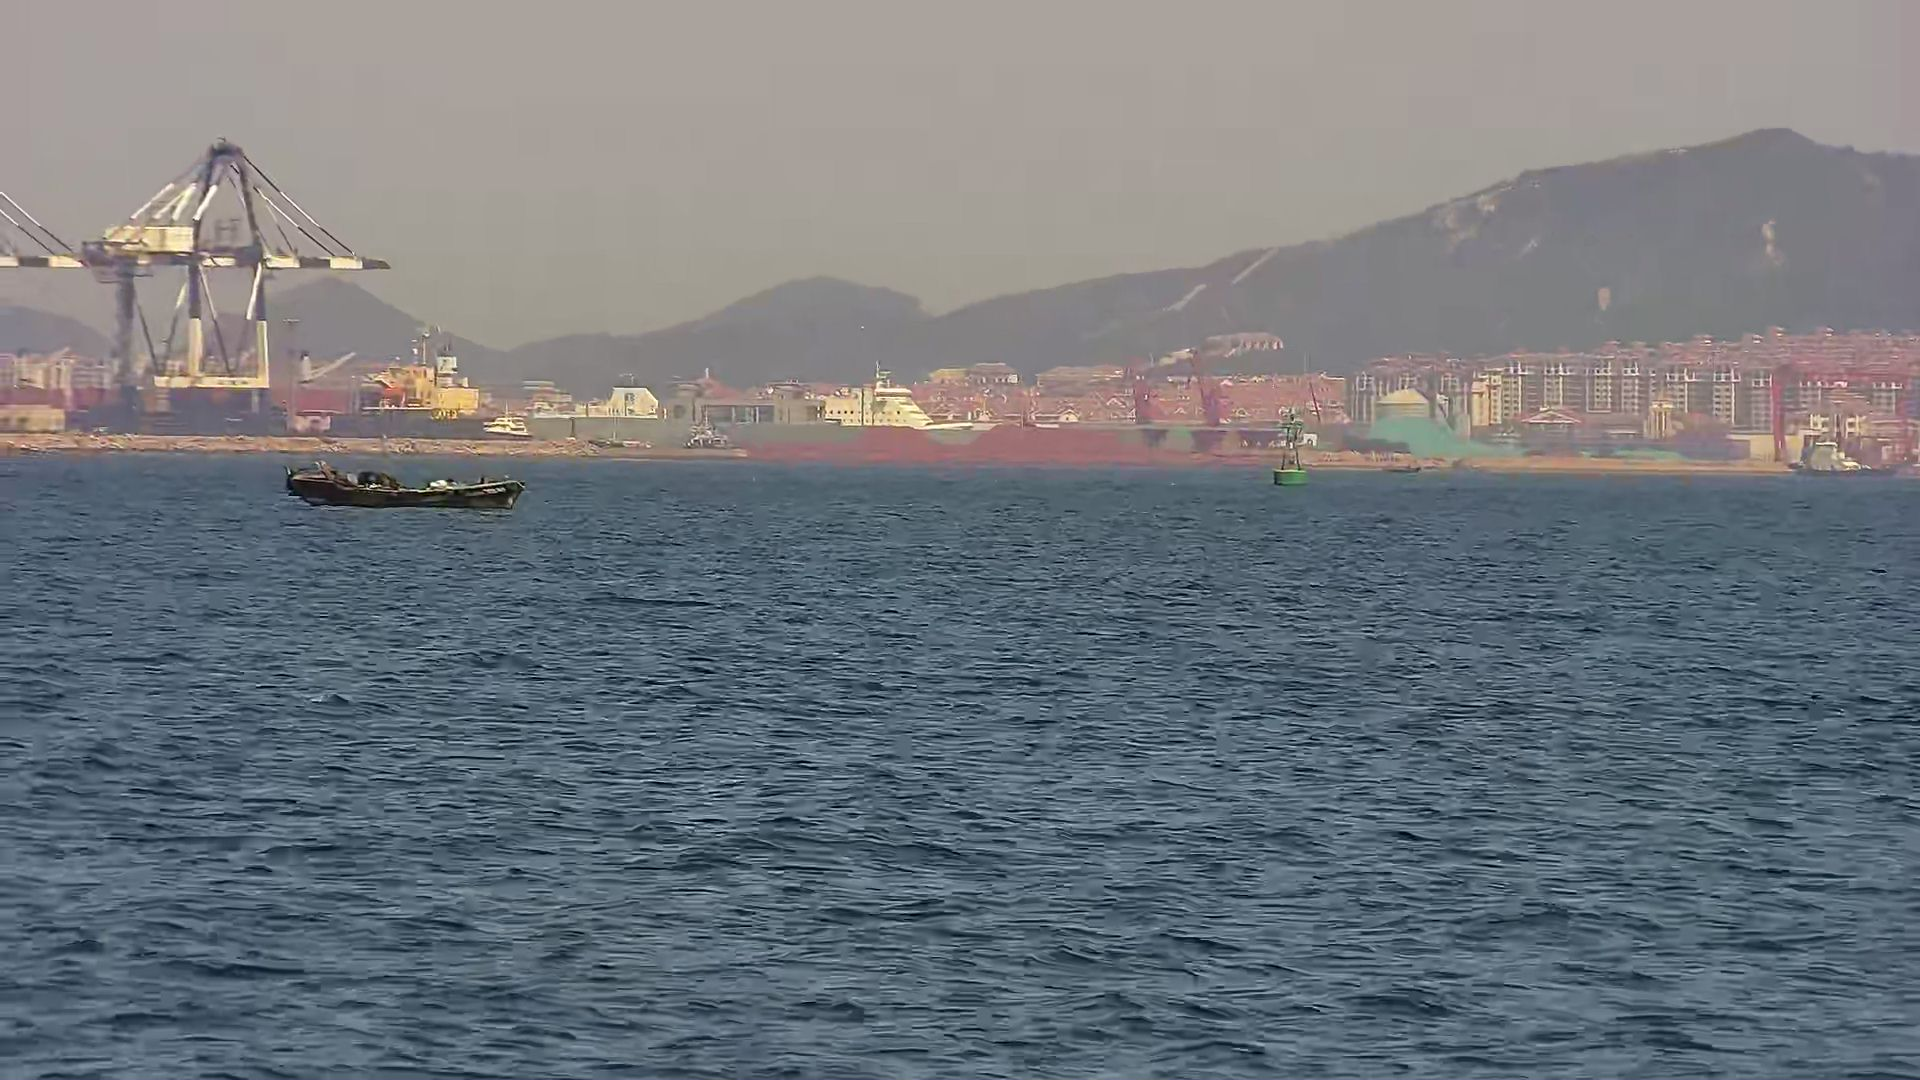boat: (282, 458, 525, 512)
buoy: (1274, 414, 1309, 491)
